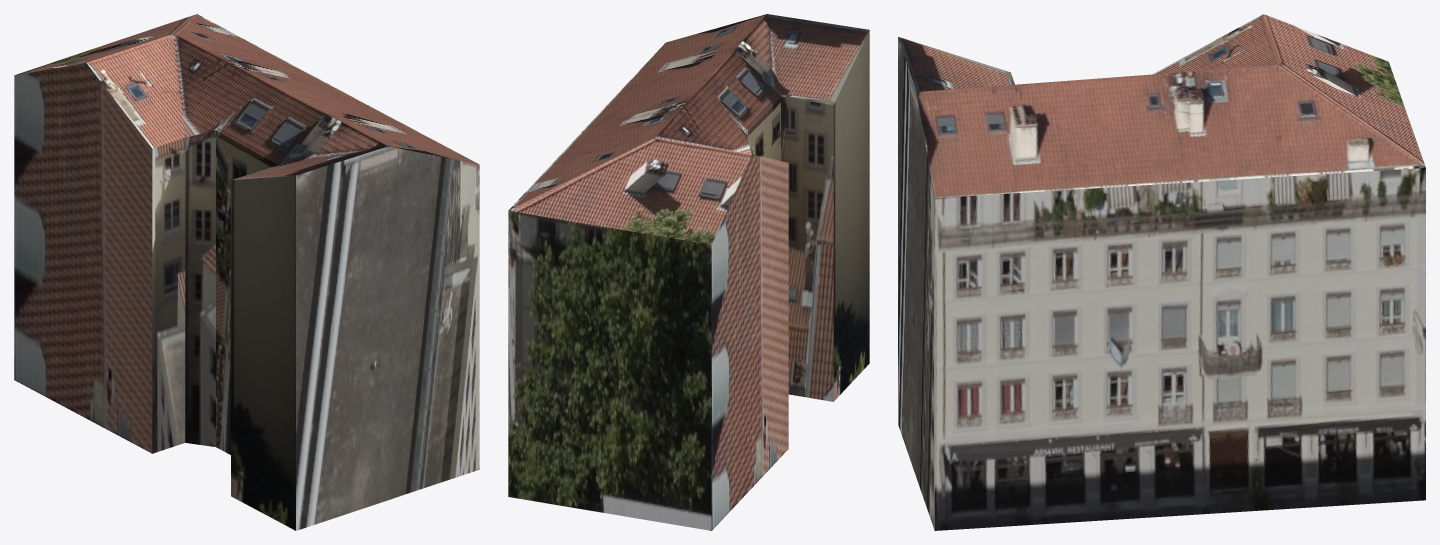
3 renders of one model, left to right at view 1: azimuth 30°, elevation 25°; view 2: azimuth 150°, elevation 25°; view 3: azimuth 270°, elevation 25°, orthographic. The views are drawn at different scales.
Parts seen in each view (by area): view 1: Z_UP; view 2: Z_UP; view 3: Z_UP.
Boxes of the visible parts, left/top/right/bottom form: Z_UP: left=14, top=14, right=479, bottom=530; Z_UP: left=508, top=14, right=869, bottom=530; Z_UP: left=898, top=14, right=1425, bottom=530.
Size of the model in its own units: 15.93 by 21.03 by 25.95.
Materials: 2 (1 with a texture image).
